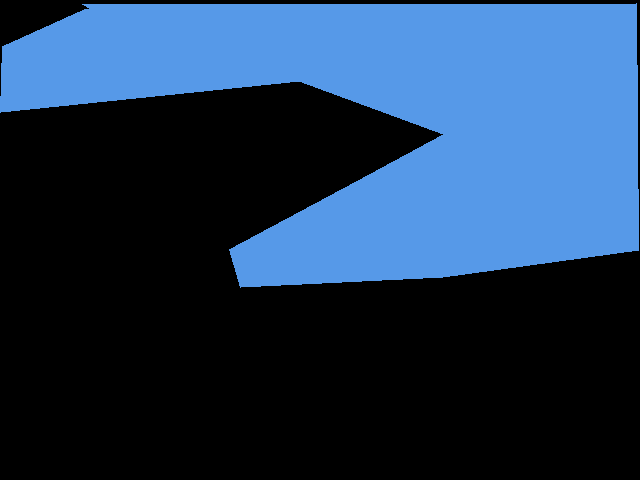Airplane: (0, 3, 638, 288)
